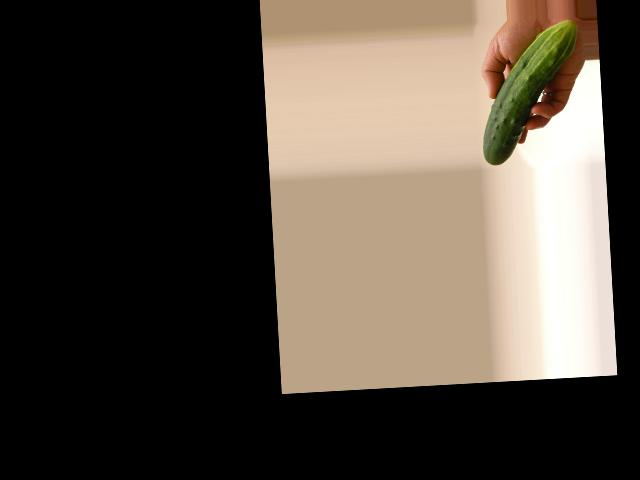cucumber: (477, 20, 585, 166)
